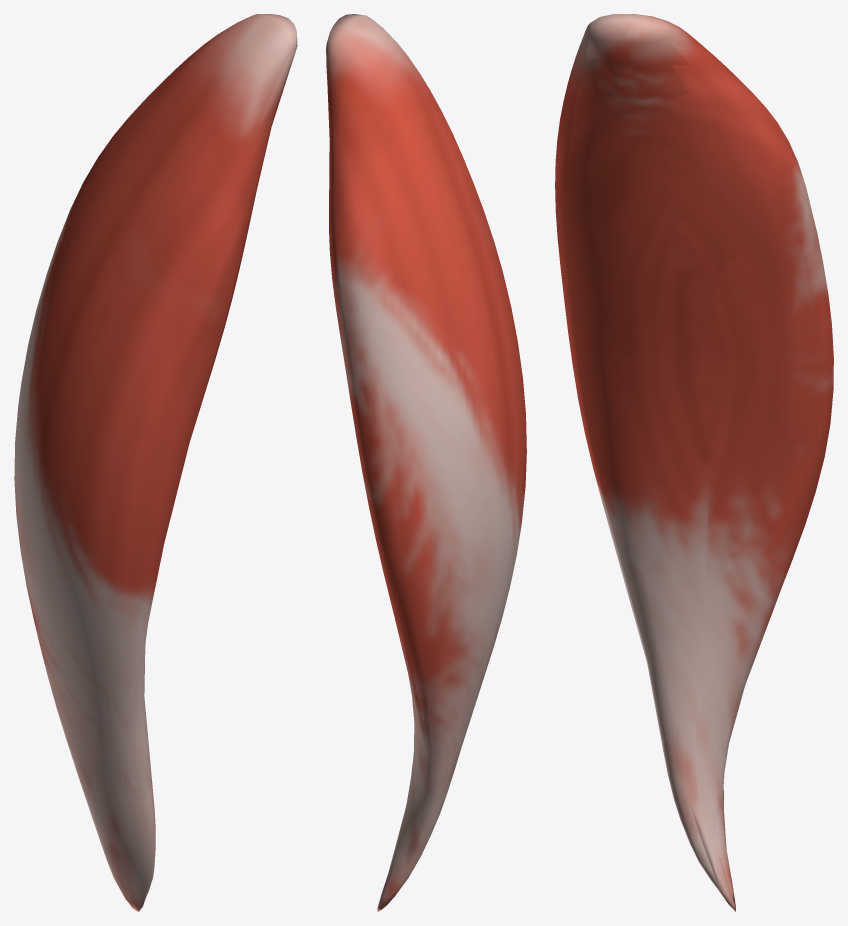
Rendered from R Tensor Fasciae Latae.fbx.
3 renders of one model, left to right at view 1: azimuth 30°, elevation 25°; view 2: azimuth 150°, elevation 25°; view 3: azimuth 270°, elevation 25°, orthographic. The views are drawn at different scales.
Visible parts, largest first — view 1: R Tensor Fasciae Latae, R Tensor Fasciae Latae low; view 2: R Tensor Fasciae Latae, R Tensor Fasciae Latae low; view 3: R Tensor Fasciae Latae low, R Tensor Fasciae Latae.
Part boxes in pixels (left/top/right/bottom): R Tensor Fasciae Latae: left=14, top=14, right=297, bottom=911; R Tensor Fasciae Latae low: left=31, top=16, right=296, bottom=911; R Tensor Fasciae Latae: left=326, top=14, right=526, bottom=911; R Tensor Fasciae Latae low: left=326, top=14, right=526, bottom=911; R Tensor Fasciae Latae low: left=555, top=15, right=829, bottom=908; R Tensor Fasciae Latae: left=555, top=14, right=833, bottom=911.
Bounding box in the file's own units: 7.16 × 28.43 × 7.66.
